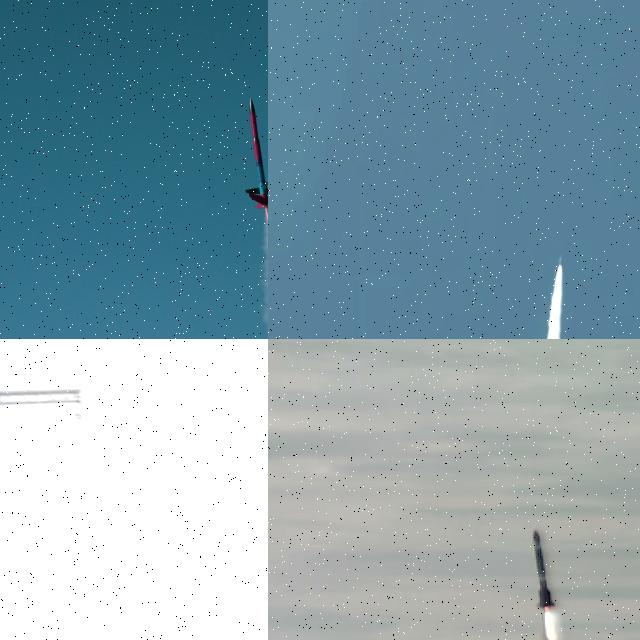Rocket: (244, 97, 268, 209), (533, 530, 556, 610), (559, 256, 562, 266)
